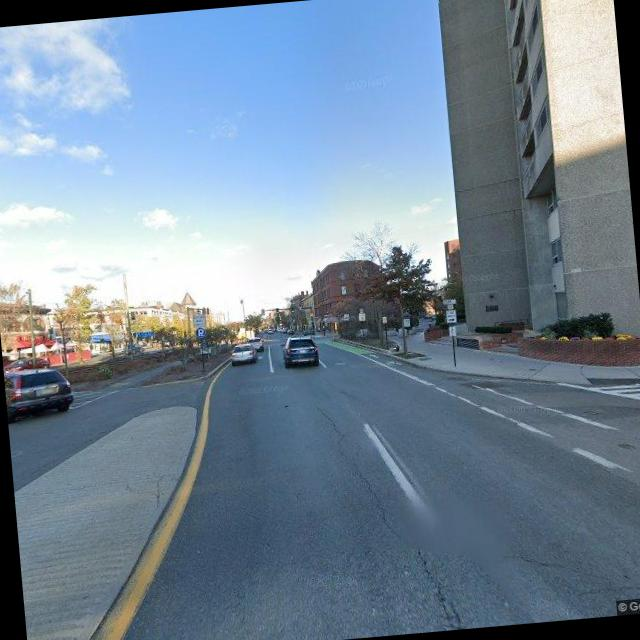pothole: (312, 383, 476, 640)
